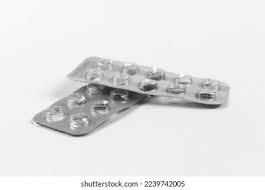pill_Strip: (68, 57, 228, 104), (33, 84, 149, 135)
